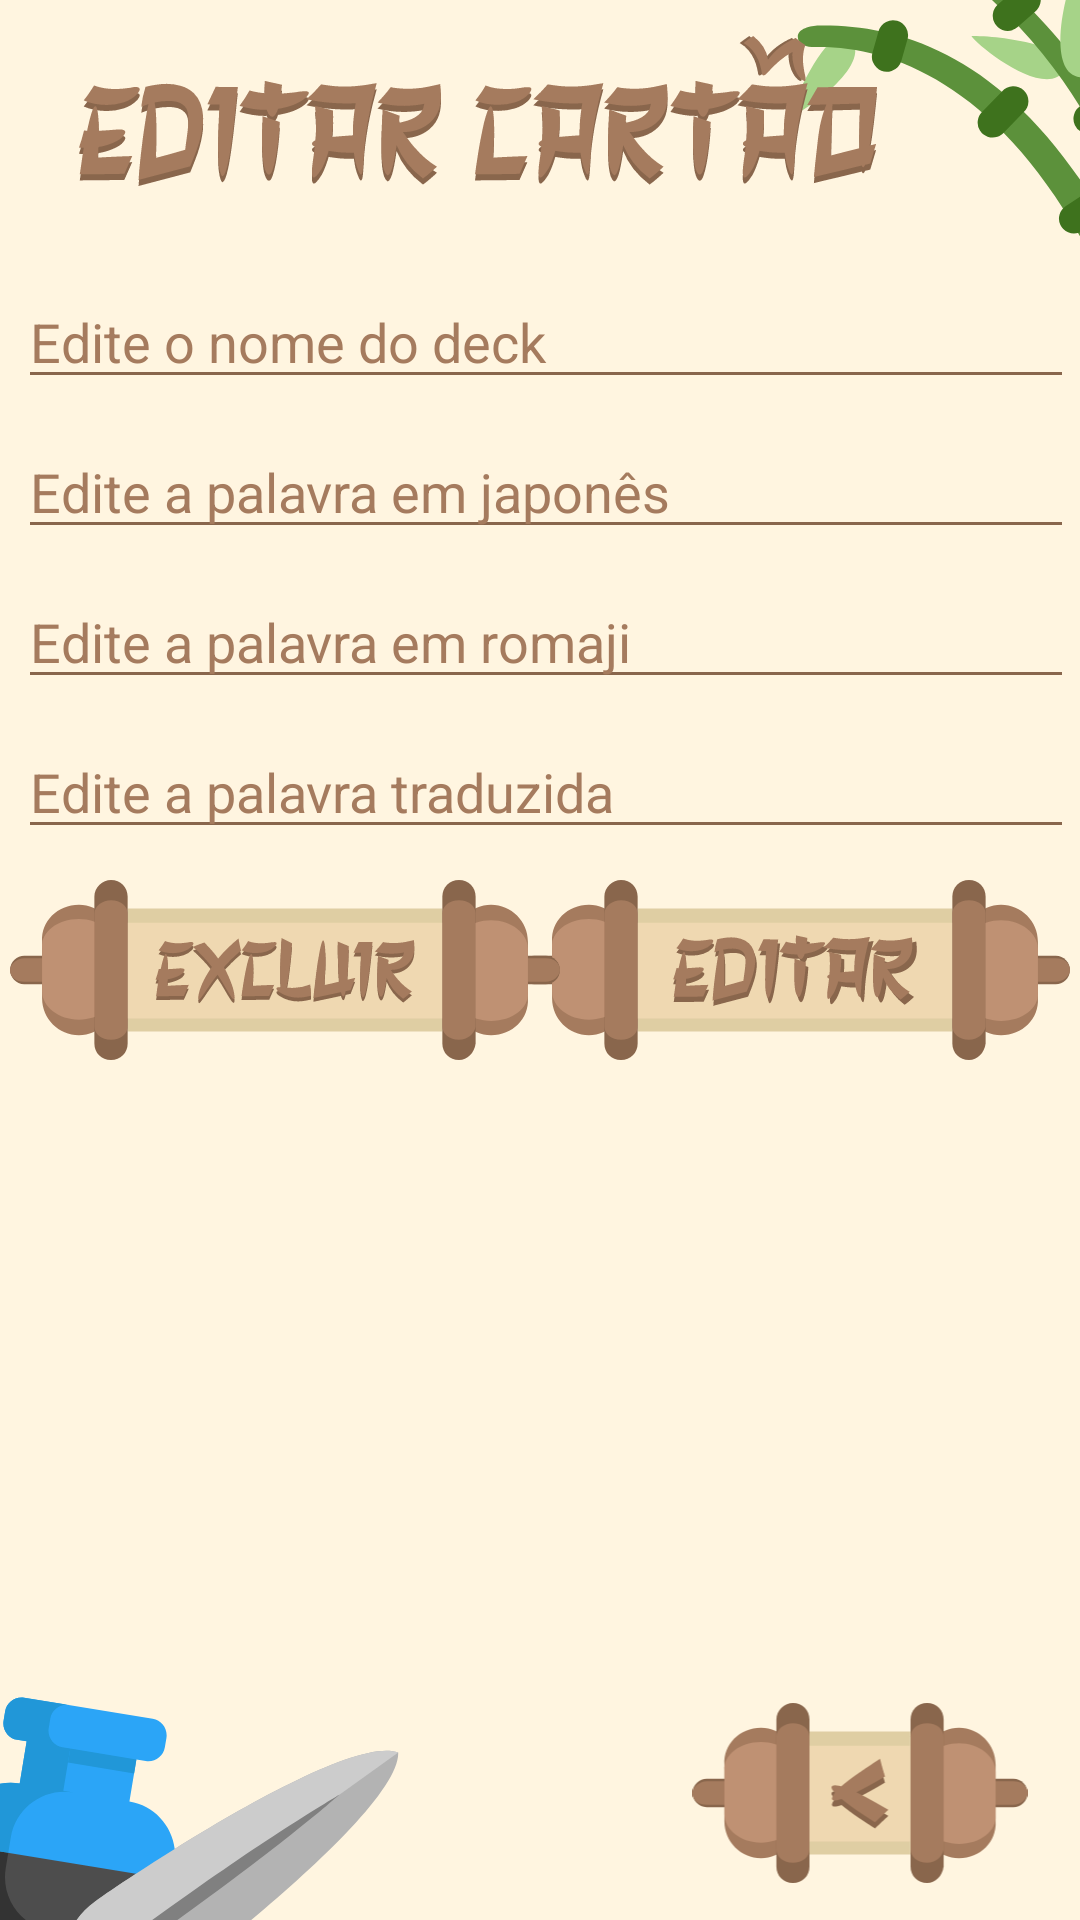

Where to tap for icons on this 1080x1920 app screen, as point (x, y):
back: point (860, 1793)
